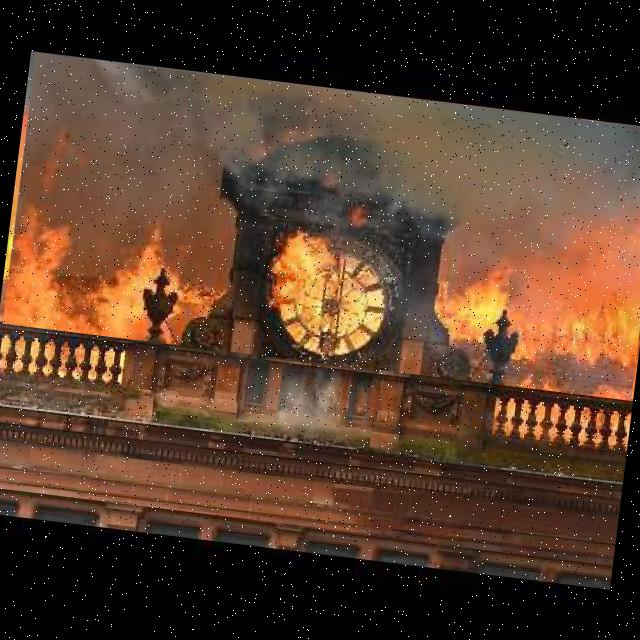fire: (2, 52, 640, 400)
